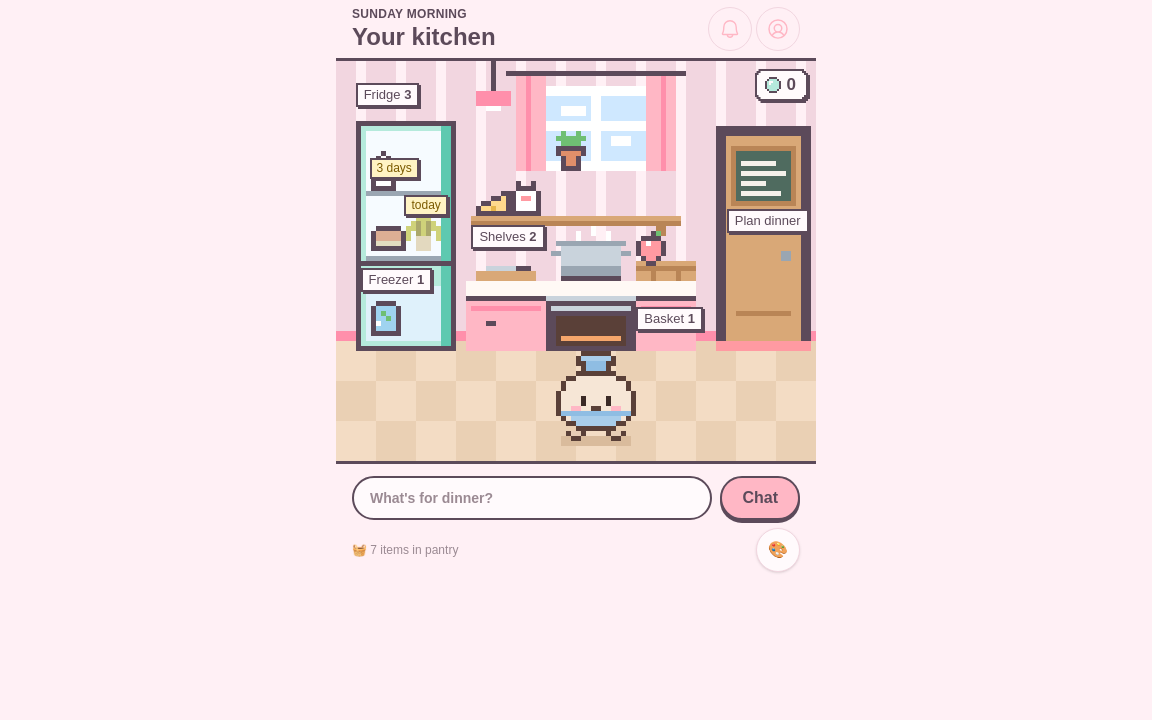
it: opening a place › Freezer opens its own sheet, on its own tab
The width and height of the screenshot is (1152, 720).
Click the button with aria-label "Freezer, 1 item".
click(406, 308)  # box left=356, top=266, right=456, bottom=351
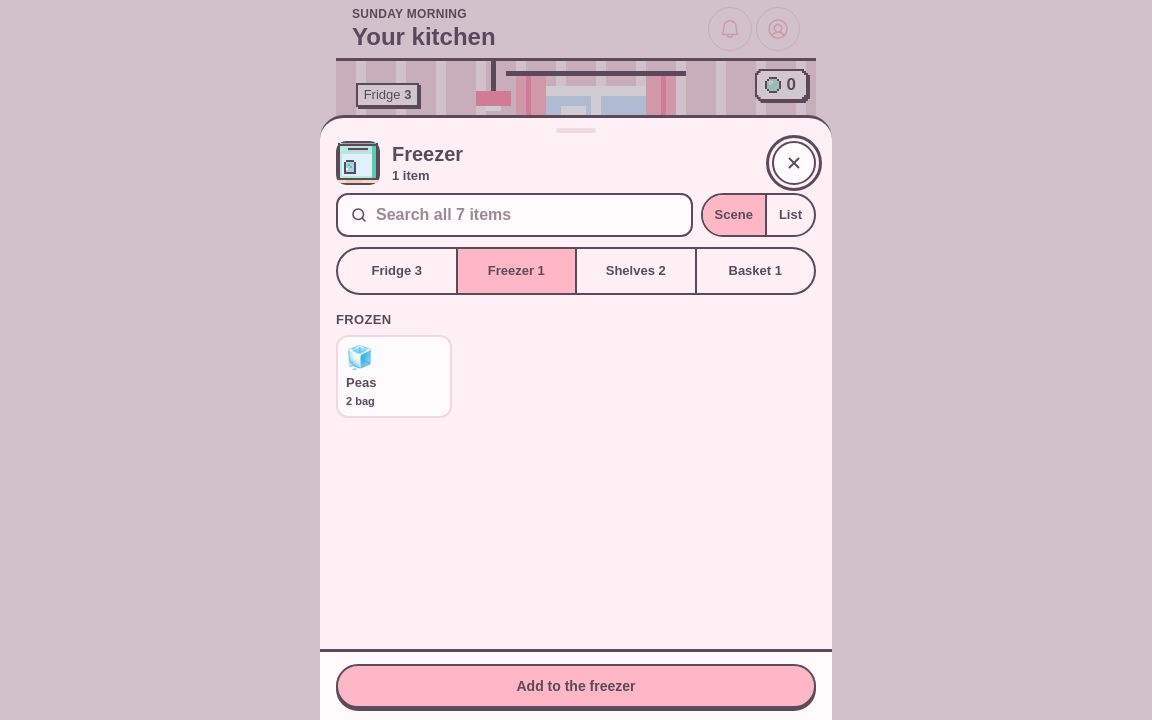
Expected: the heading "Freezer" is shown, left=392, top=143, right=463, bottom=165
Expected: the button "Add to the freezer" is shown, left=336, top=664, right=816, bottom=708
